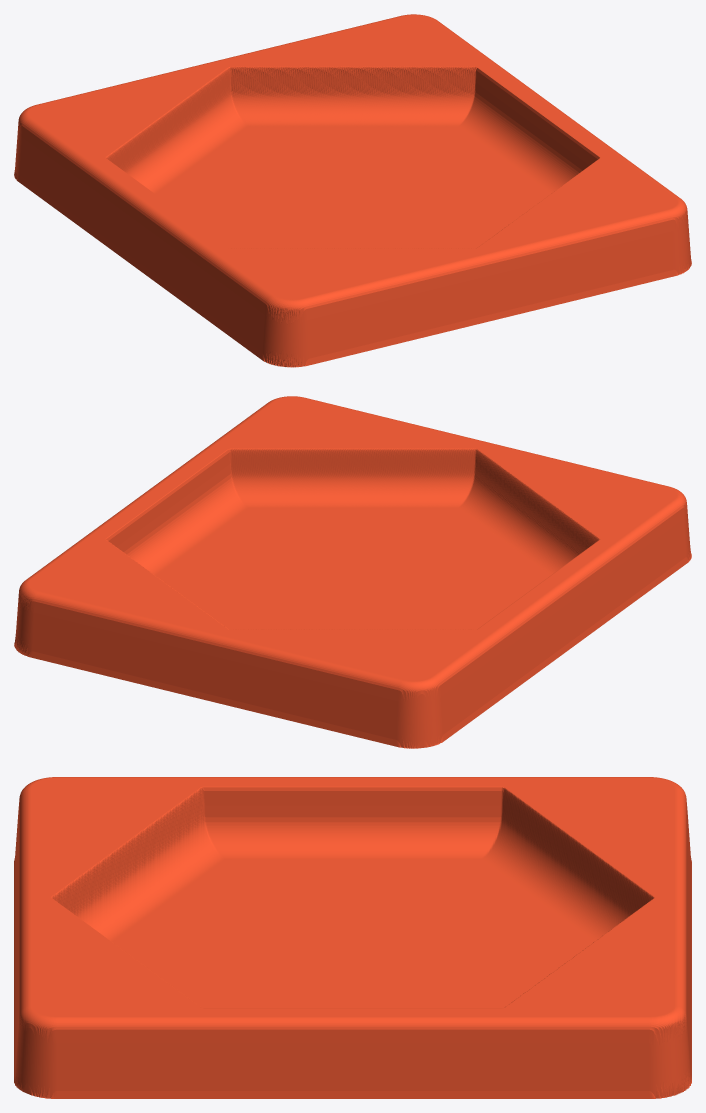
File: mold.glb
3 views of the same model, one above another, from view 1: azimuth 30°, elevation 25°; view 2: azimuth 150°, elevation 25°; view 3: azimuth 270°, elevation 25° (orthographic). The views are drawn at different scales.
Parts seen in each view (by area): view 1: geometry_0; view 2: geometry_0; view 3: geometry_0.
Part boxes in pixels (left/top/right/bottom): geometry_0: left=14, top=14, right=691, bottom=367; geometry_0: left=14, top=396, right=691, bottom=748; geometry_0: left=14, top=777, right=691, bottom=1098.
Size of the model in its own units: 0.1268 by 0.0175 by 0.1435.
